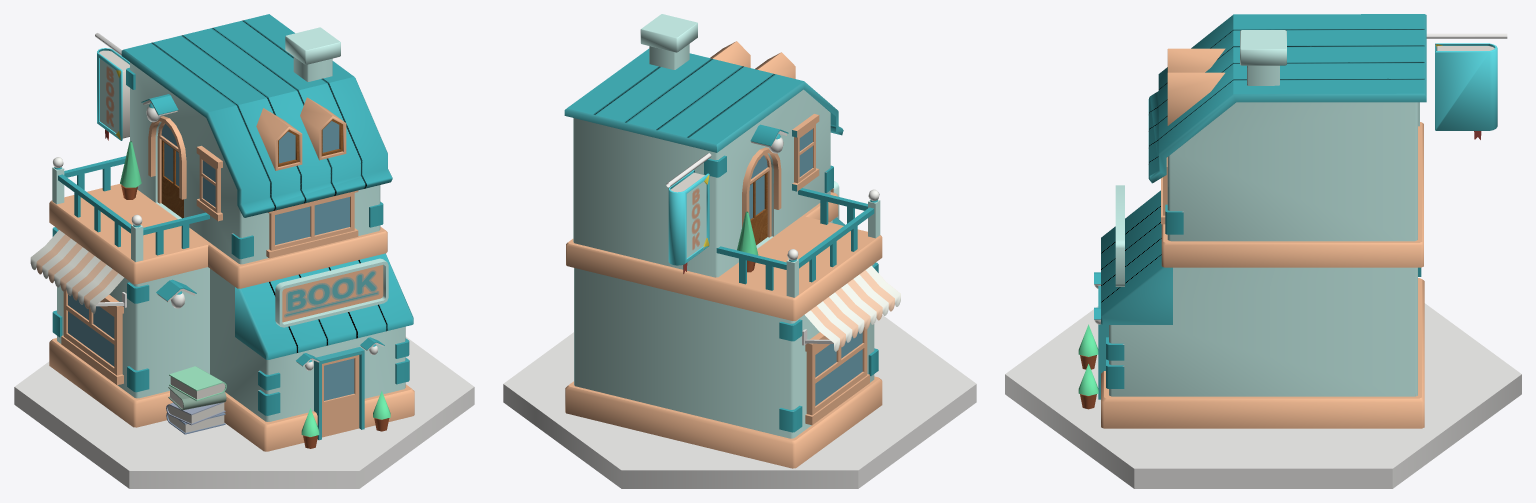
Rendered from HouseBook.fbx.
The picture shows the model from 3 angles, left to right: view 1: azimuth 30°, elevation 25°; view 2: azimuth 150°, elevation 25°; view 3: azimuth 270°, elevation 25°; orthographic projection. The views are drawn at different scales.
Visible parts, largest first — view 1: HouseBook; view 2: HouseBook; view 3: HouseBook.
Boxes of the visible parts, x1,y1,x2,y2 form: HouseBook: (14,14,474,488); HouseBook: (503,14,976,488); HouseBook: (1005,14,1521,488).
Size of the model in its own units: 412 by 399 by 476.
1 material, 1 textured.
